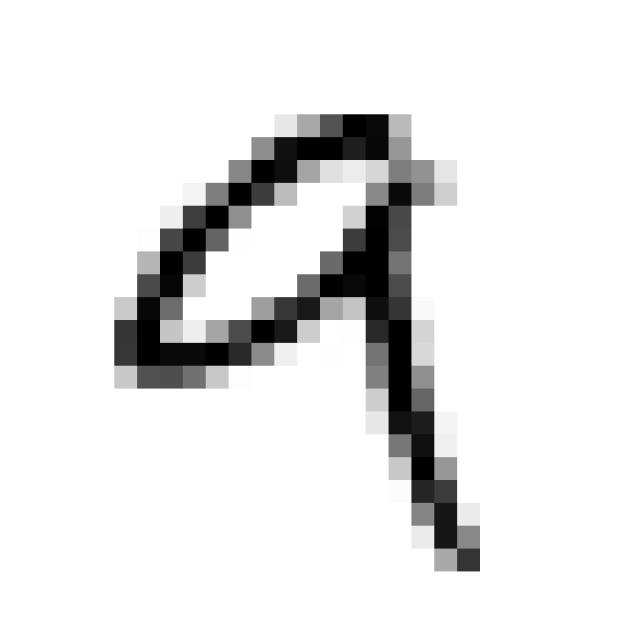9 -nine-: (96, 89, 503, 595)
